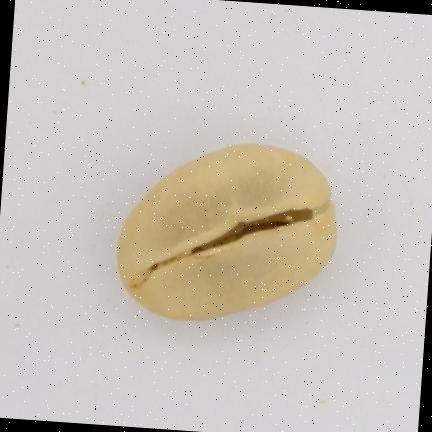parchment: (118, 145, 336, 318)
